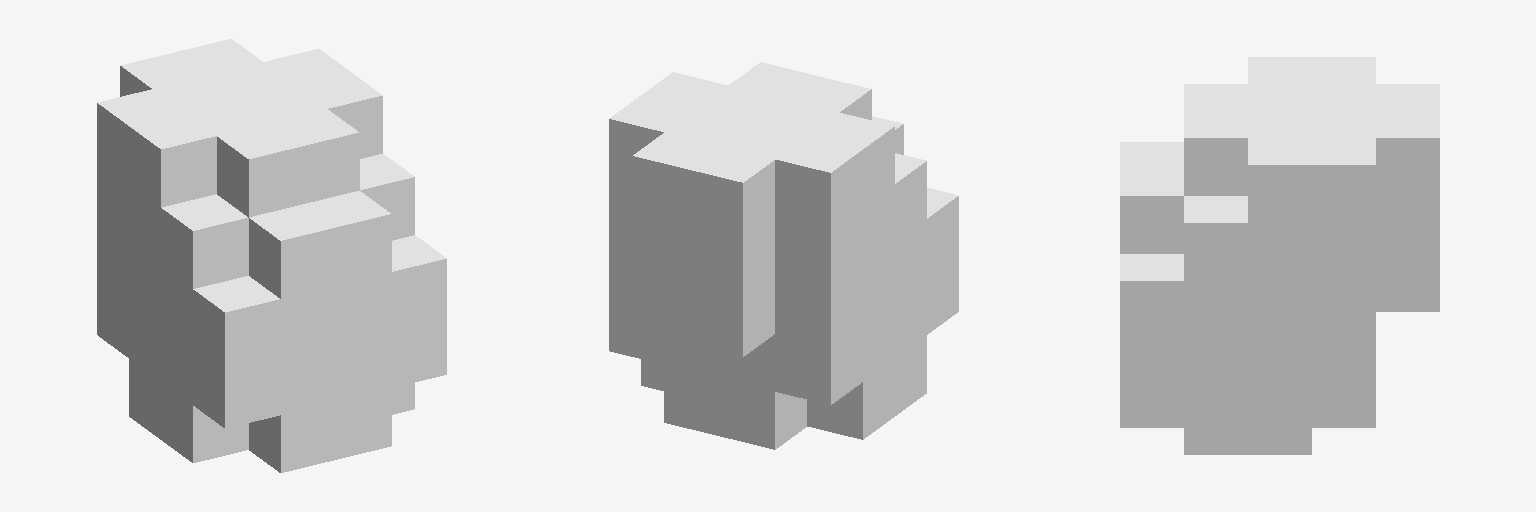
The model's file is Coal.obj.
3 views of the same model, side by side, from view 1: azimuth 30°, elevation 25°; view 2: azimuth 150°, elevation 25°; view 3: azimuth 270°, elevation 25° (orthographic).
Visible parts, largest first — view 1: object 1; view 2: object 1; view 3: object 1.
Part boxes in pixels (left/top/right/bottom): object 1: left=97, top=39, right=446, bottom=472; object 1: left=609, top=62, right=958, bottom=449; object 1: left=1120, top=57, right=1439, bottom=454.
Bounding box in the file's own units: 0.4 × 0.5 × 0.5.